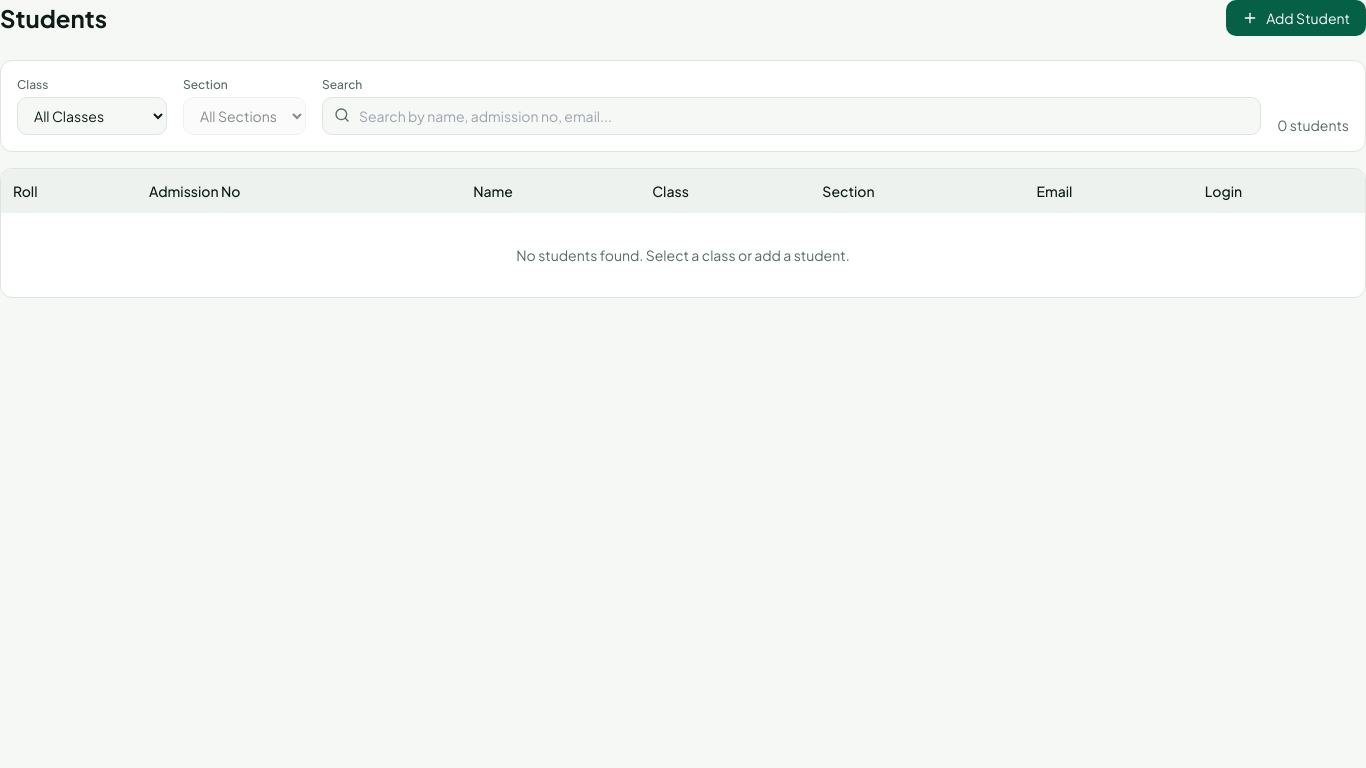
it: the student form says what is missing › says when the chosen class has no section
The width and height of the screenshot is (1366, 768).
Step 1. Click the button "Add Student" → (1296, 18), box [1226,0,1365,36]
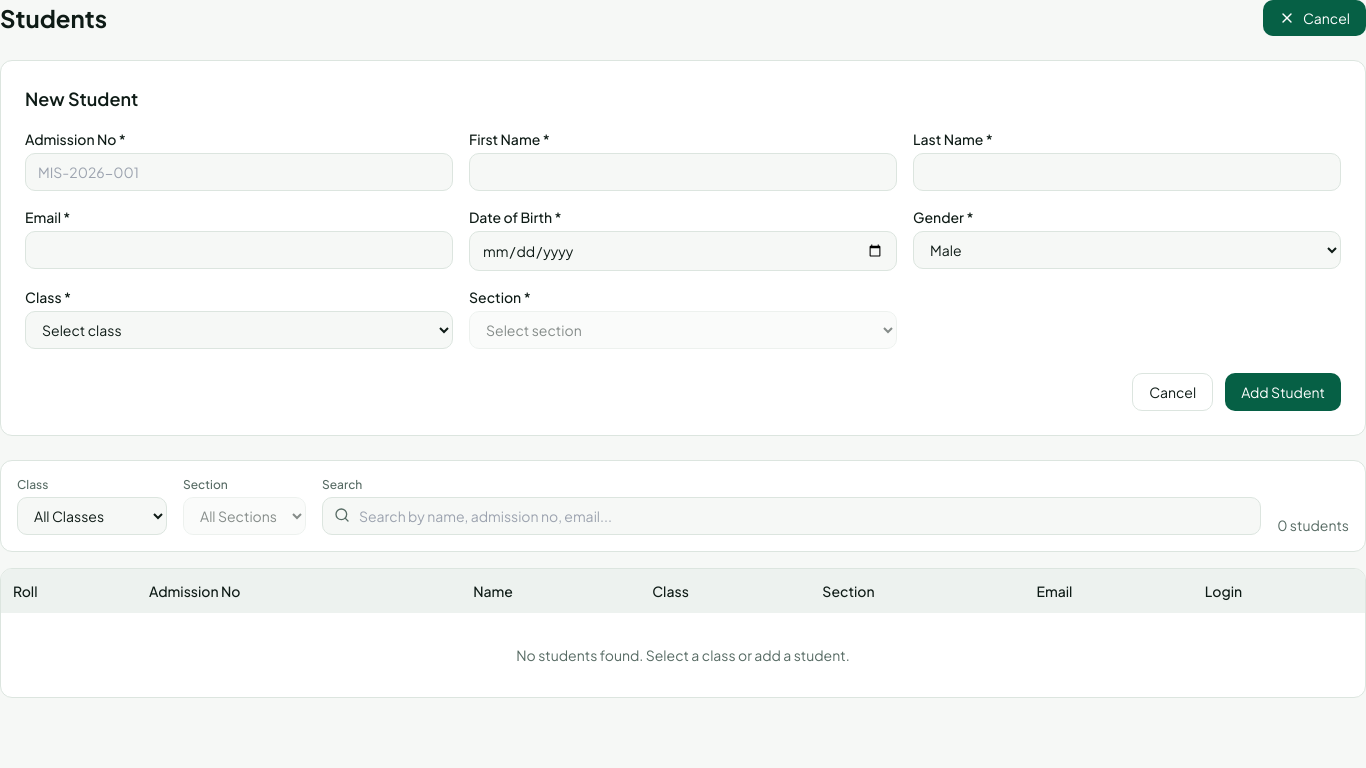
Step 2. Select "Class 1" in the dropdown named "classId" below "Class *" → (239, 330), box [25,311,453,349]
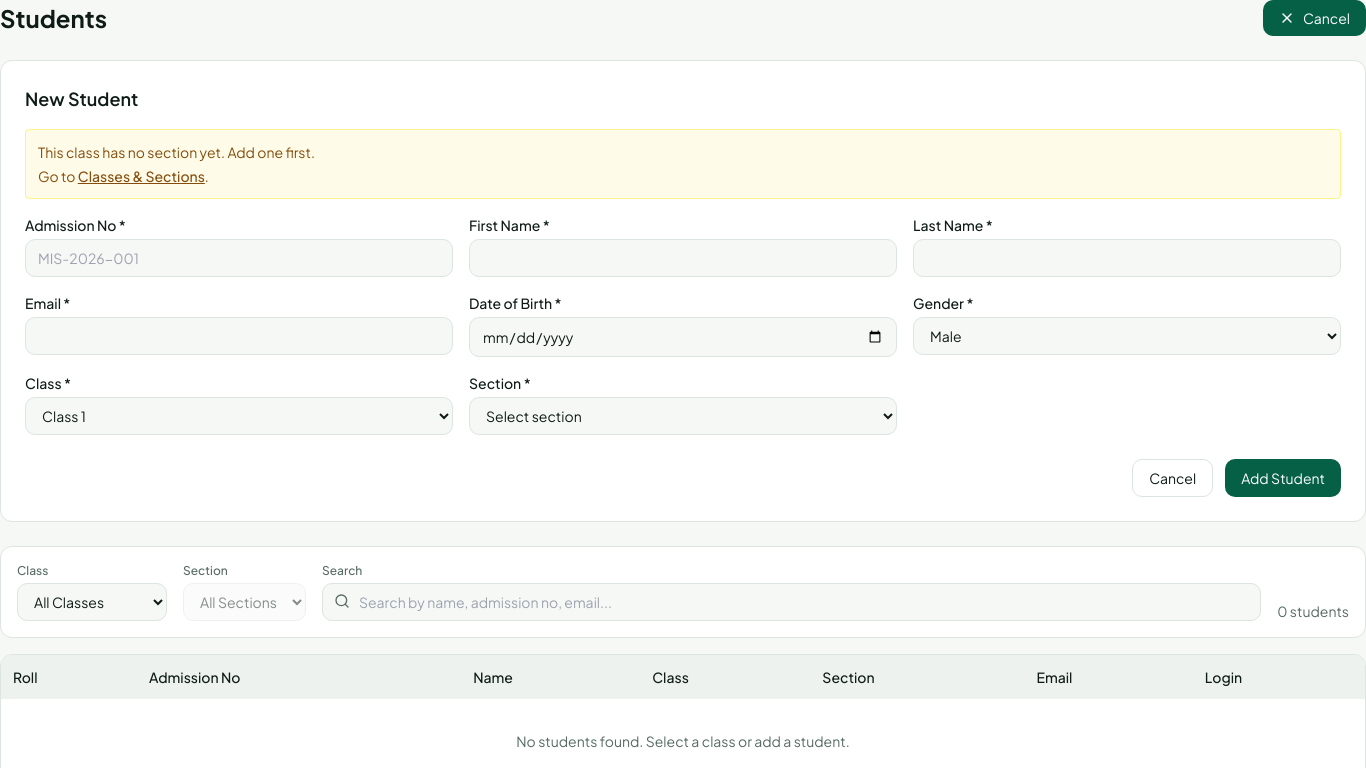
Expected: the text "This class has no section yet. Add one first." is shown, [38,143,315,161]
